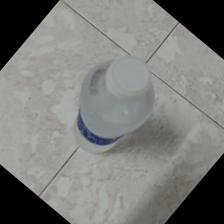Aquafina: (69, 56, 156, 161)
